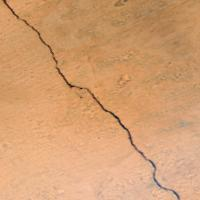crack: (2, 0, 183, 199)
